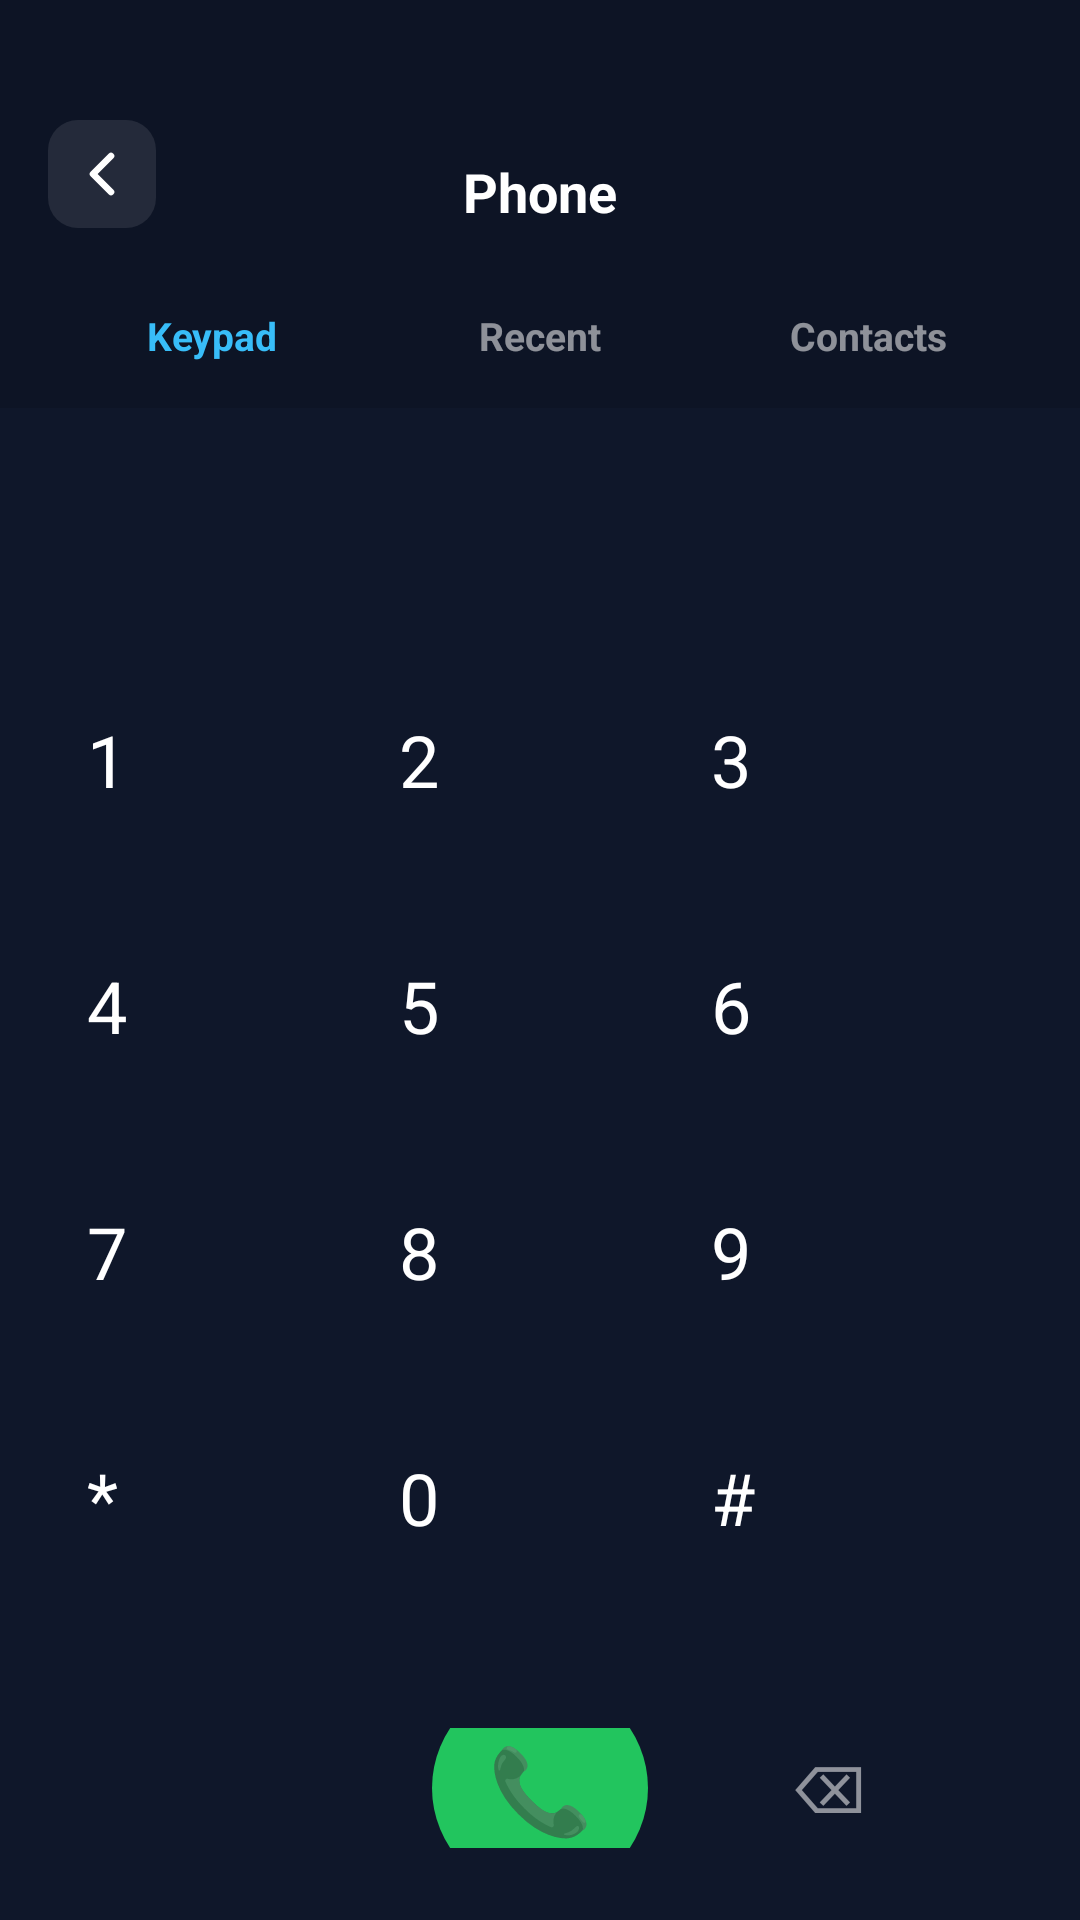

Icons on this 1080 x 1920 Android screen, each with the point to tap as (x=x, y=y):
Back: (x=102, y=174)
